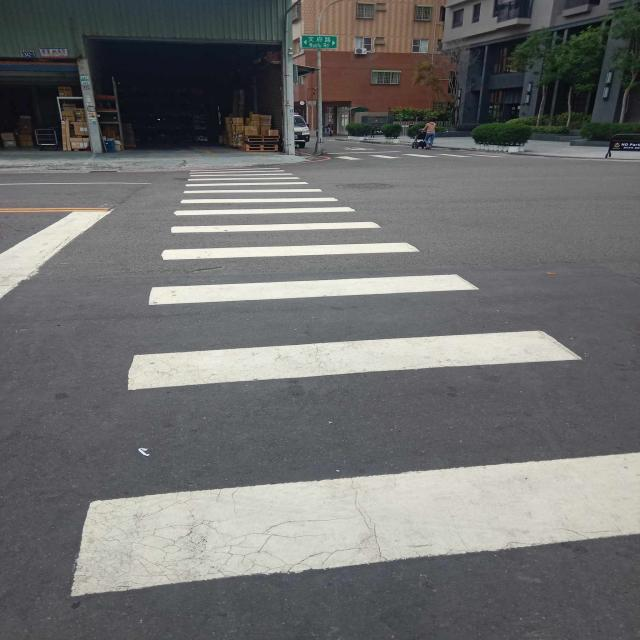zebra_crossing: (161, 77, 510, 238), (218, 65, 640, 189), (443, 274, 640, 444)
